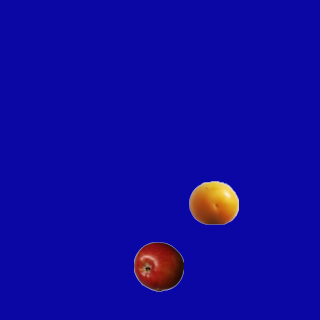Apple Braeburn: (133, 241, 183, 291)
Cherry Wax Yellow: (188, 177, 238, 227)
